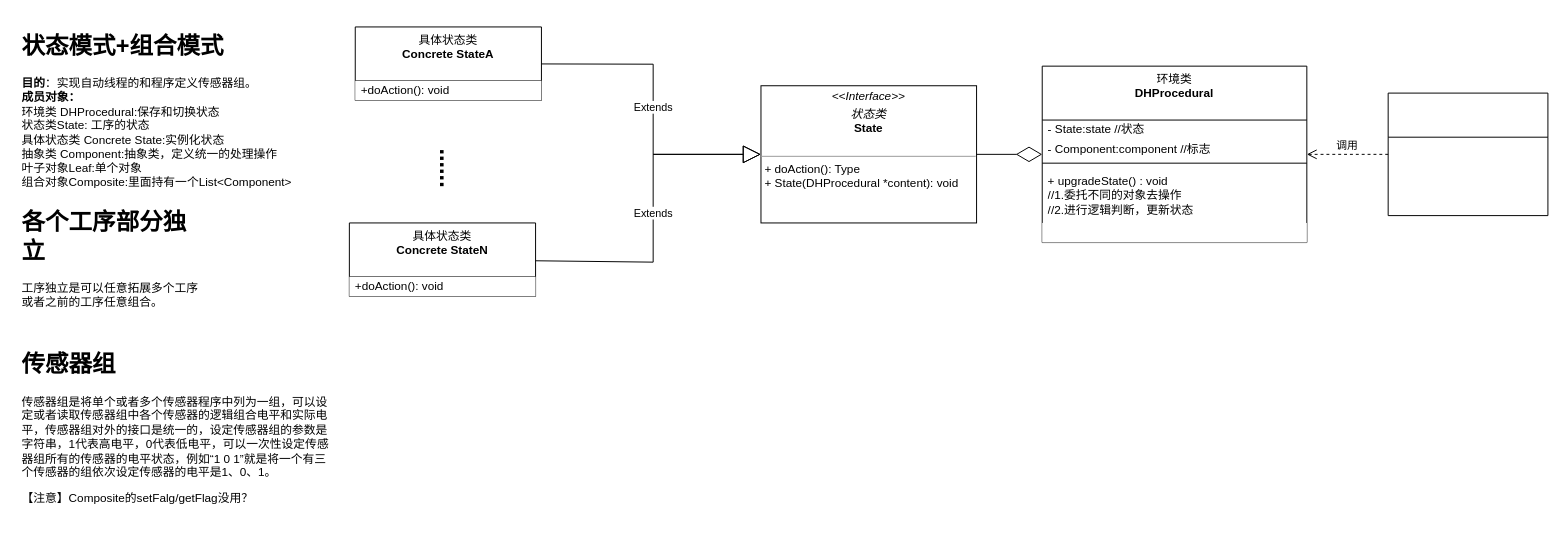
Image size: 1565x553. Some labels were removed from this diagram. The shapes that lost their labels are listed below. From the top down, each one's centre as x and y in pixels, then its label:
At [1467,154]: "客户端 Client".
At [1174,232]: "+Play(): void //开始运动".
